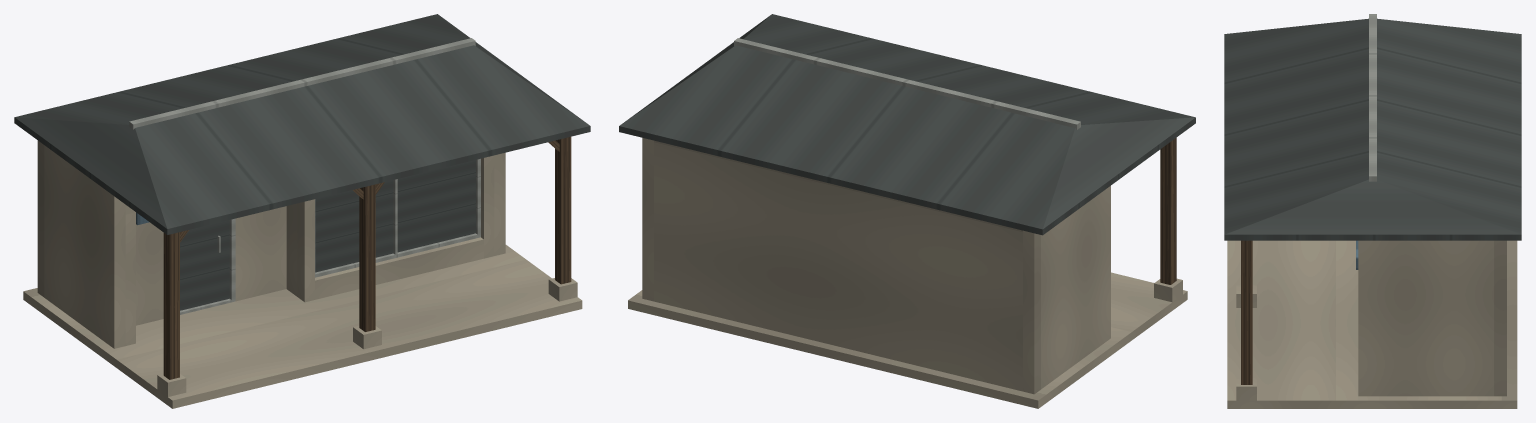
File: copenhagen.glb
3 views of the same model, side by side, from view 1: azimuth 30°, elevation 25°; view 2: azimuth 150°, elevation 25°; view 3: azimuth 270°, elevation 25° (orthographic). The views are drawn at different scales.
Visible parts, largest first — view 1: copenhagen; view 2: copenhagen; view 3: copenhagen.
Part boxes in pixels (x1,y1,x2,y2): copenhagen: (14, 14, 590, 408); copenhagen: (619, 14, 1195, 408); copenhagen: (1224, 14, 1521, 408).
Size of the model in its own units: 7.35 by 3.7 by 4.6.
1 material, 1 textured.
